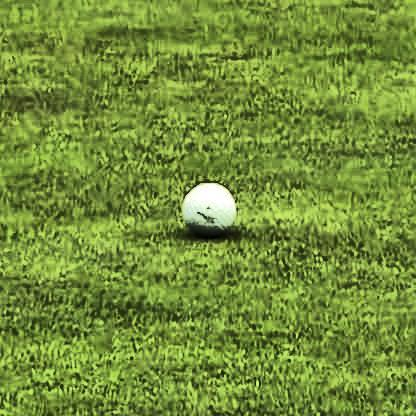golfball: (178, 180, 235, 236)
